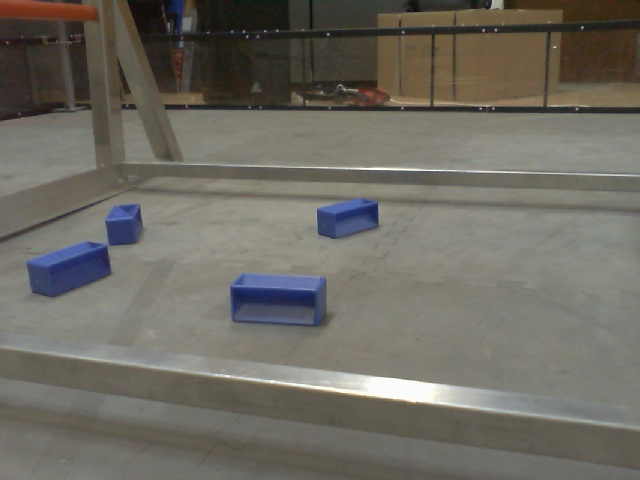BlueSample: (229, 270, 330, 330), (24, 240, 112, 299), (316, 194, 385, 244), (104, 203, 144, 247)
